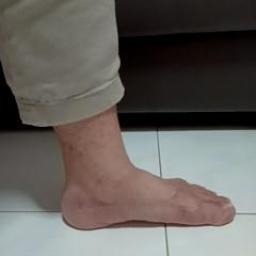Medial View -Left Foot-: (34, 138, 251, 246)
